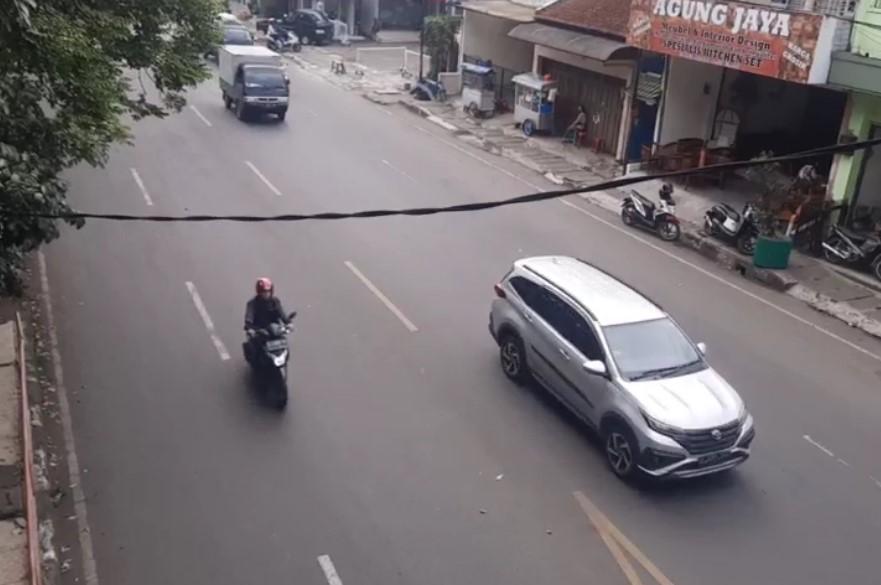mobil: (491, 250, 764, 492), (215, 48, 298, 126)
motor: (229, 266, 299, 405)
